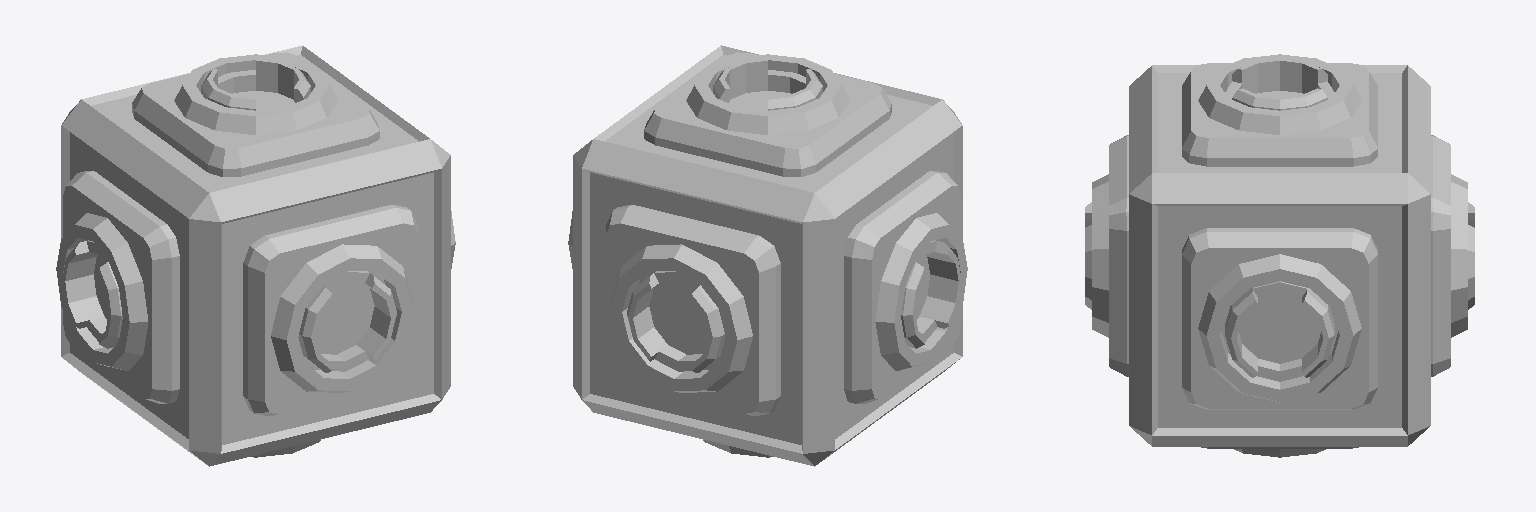
The model's file is fant_mcp_2.obj.
3 renders of one model, left to right at view 1: azimuth 30°, elevation 25°; view 2: azimuth 150°, elevation 25°; view 3: azimuth 270°, elevation 25°, orthographic.
Parts seen in each view (by area): view 1: obj_interactive_chest_Mesh; view 2: obj_interactive_chest_Mesh; view 3: obj_interactive_chest_Mesh.
Boxes of the visible parts, <box> form: obj_interactive_chest_Mesh: <box>56,45,455,466</box>; obj_interactive_chest_Mesh: <box>568,45,967,466</box>; obj_interactive_chest_Mesh: <box>1085,54,1474,457</box>.
Size of the model in its own units: 3.54 by 3.54 by 3.54.